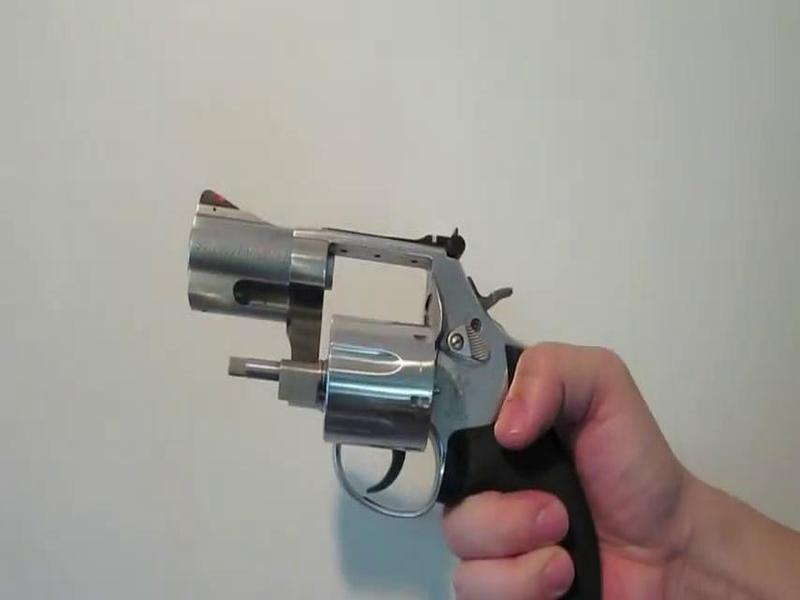Revolver: (165, 155, 623, 600)
